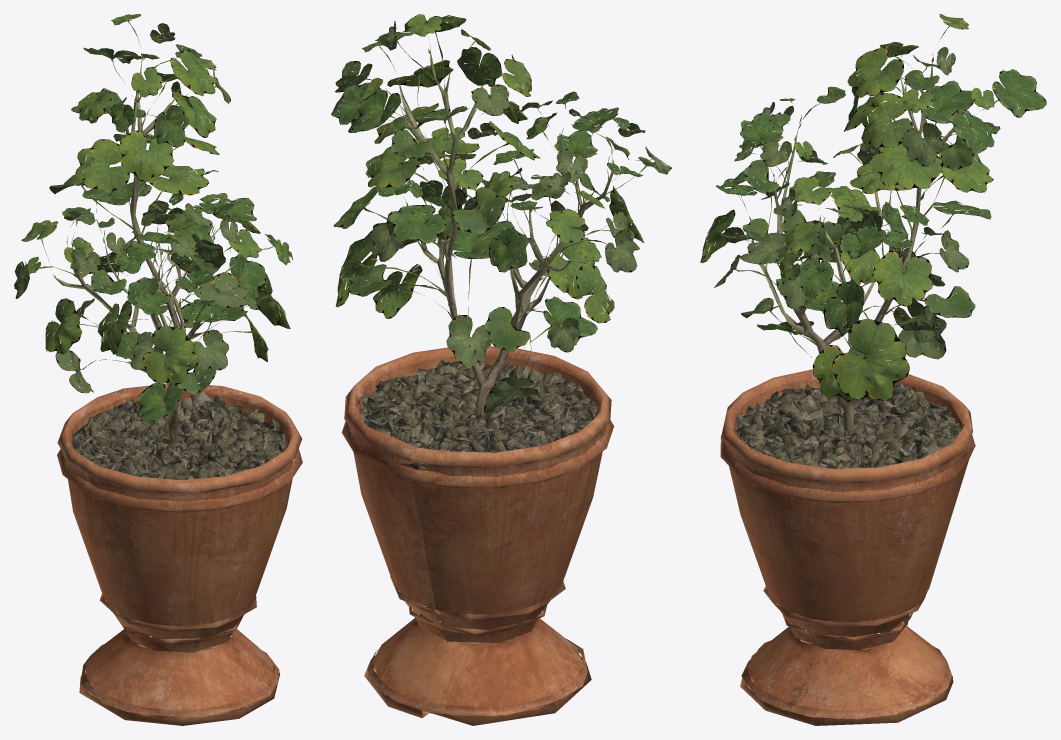
File: potted_plant_01_lod.glb
3 renders of one model, left to right at view 1: azimuth 30°, elevation 25°; view 2: azimuth 150°, elevation 25°; view 3: azimuth 270°, elevation 25°, orthographic. The views are drawn at different scales.
Parts seen in each view (by area): view 1: potted_plant_01_pot, potted_plant_01_leaves, potted_plant_01_pebbles, potted_plant_01_stem; view 2: potted_plant_01_pot, potted_plant_01_leaves, potted_plant_01_pebbles, potted_plant_01_stem; view 3: potted_plant_01_pot, potted_plant_01_leaves, potted_plant_01_pebbles, potted_plant_01_stem.
Boxes of the visible parts, bbox=[...] form: potted_plant_01_pot: bbox=[57, 384, 302, 725]; potted_plant_01_leaves: bbox=[14, 14, 292, 423]; potted_plant_01_pebbles: bbox=[71, 392, 288, 492]; potted_plant_01_stem: bbox=[53, 55, 242, 443]; potted_plant_01_pot: bbox=[341, 346, 613, 725]; potted_plant_01_leaves: bbox=[331, 14, 671, 413]; potted_plant_01_pebbles: bbox=[357, 359, 599, 472]; potted_plant_01_stem: bbox=[398, 49, 612, 419]; potted_plant_01_pot: bbox=[720, 368, 975, 725]; potted_plant_01_leaves: bbox=[700, 14, 1046, 401]; potted_plant_01_pebbles: bbox=[733, 383, 961, 483]; potted_plant_01_stem: bbox=[751, 57, 966, 431].
Size of the model in its own units: 0.5858 by 1.34 by 0.6328.
2 materials, 2 textured.
